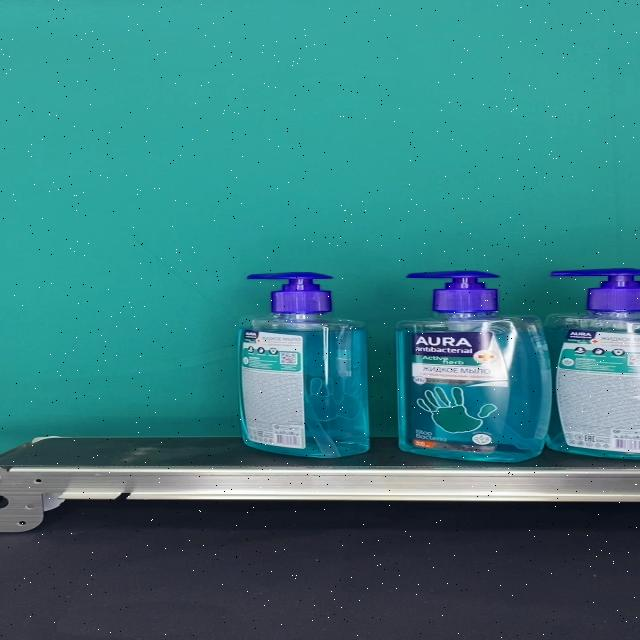Bottle: (396, 271, 552, 462), (238, 272, 369, 458)
Cap: (406, 271, 501, 314), (248, 272, 334, 314)
